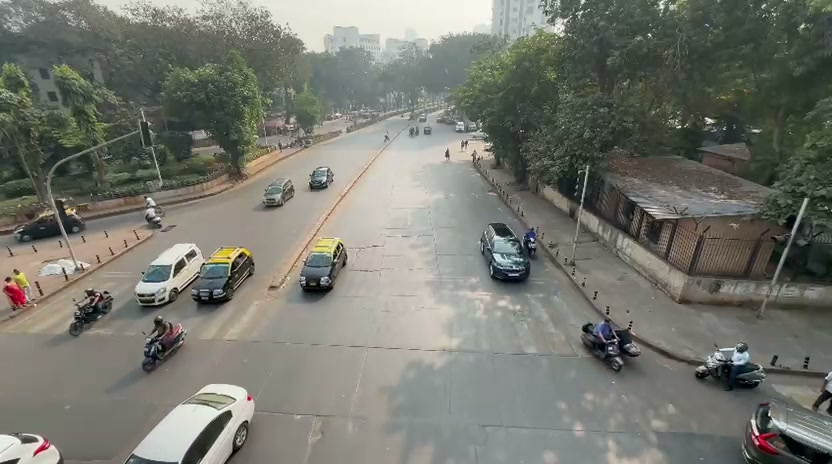car: (124, 383, 256, 463), (740, 399, 832, 464), (134, 241, 205, 307), (191, 245, 256, 305), (480, 222, 531, 282), (298, 236, 347, 292), (15, 213, 86, 242), (0, 432, 63, 464), (38, 258, 90, 280), (262, 178, 295, 207), (309, 166, 335, 190)
motorcycle: (580, 320, 640, 373), (695, 348, 767, 390), (141, 319, 187, 374), (68, 293, 113, 337), (581, 327, 624, 373), (144, 206, 165, 228)
pedestrian: (4, 273, 30, 311), (811, 371, 832, 414), (732, 342, 750, 375)
